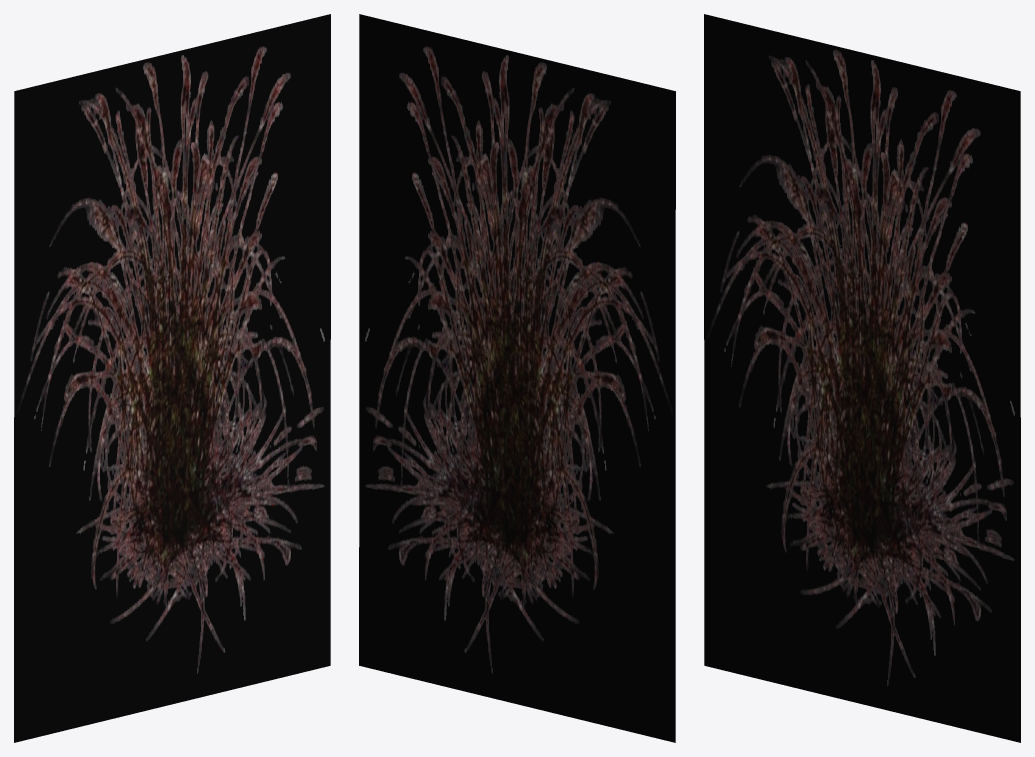
Rendered from 血长的草平面.gltf.
3 renders of one model, left to right at view 1: azimuth 30°, elevation 25°; view 2: azimuth 150°, elevation 25°; view 3: azimuth 330°, elevation 25°, orthographic.
Visible parts, largest first — view 1: 平面; view 2: 平面; view 3: 平面.
Boxes of the visible parts, left/top/right/bottom form: 平面: left=14, top=14, right=330, bottom=742; 平面: left=359, top=14, right=675, bottom=742; 平面: left=704, top=14, right=1020, bottom=742.
Size of the model in its own units: 2.84 by 5.58 by 0.00193.
Materials: 1 (1 with a texture image).
